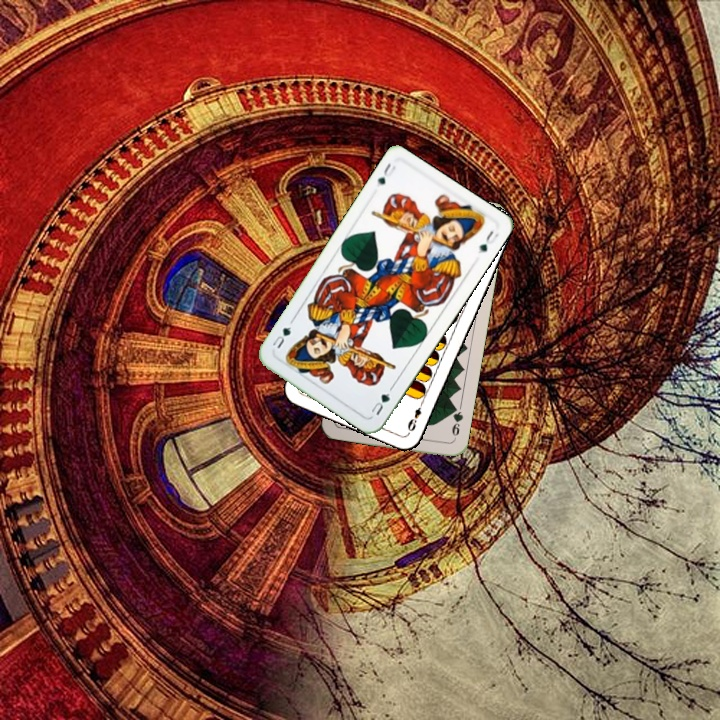E9: (403, 397, 426, 435)
G9: (448, 402, 466, 443)
GU: (367, 389, 393, 418), (373, 158, 398, 187)
